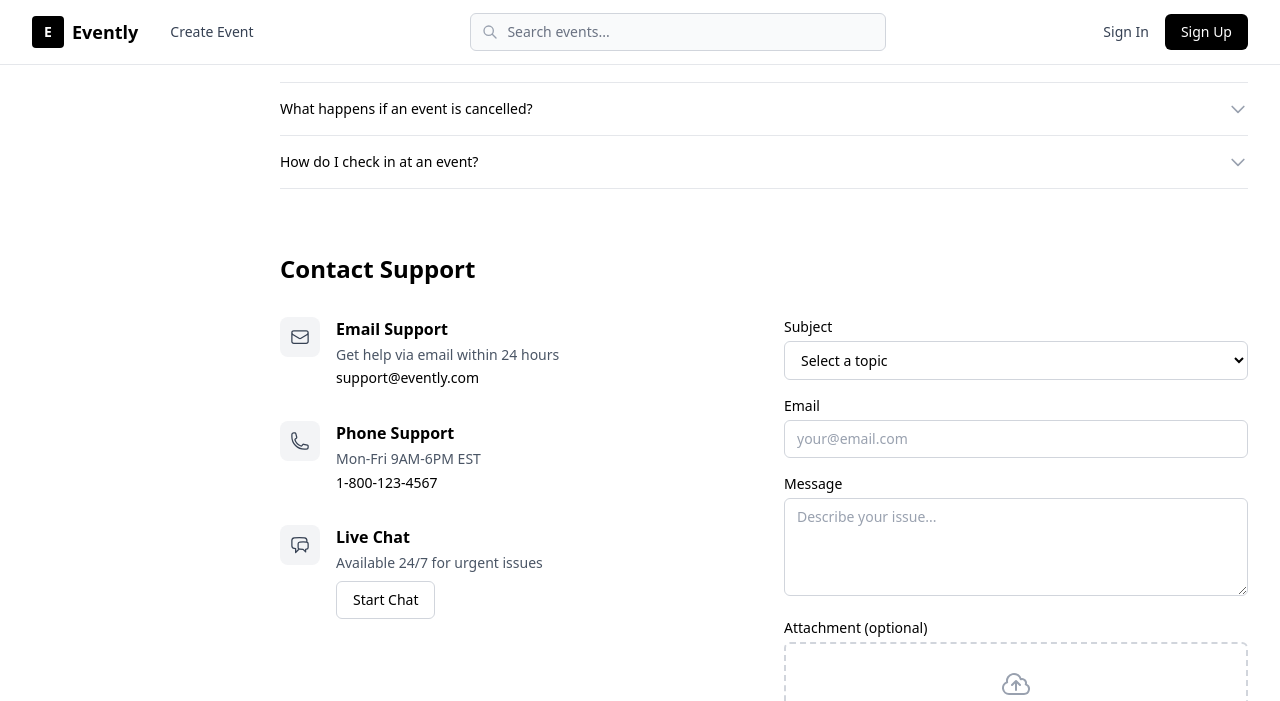
Test: HelpPage › shows error when submitting without message
(page scrolled)
Select "Bug Report" in the dropdown labelled "Subject". click: (1016, 360)
box: [784,341,1248,380]
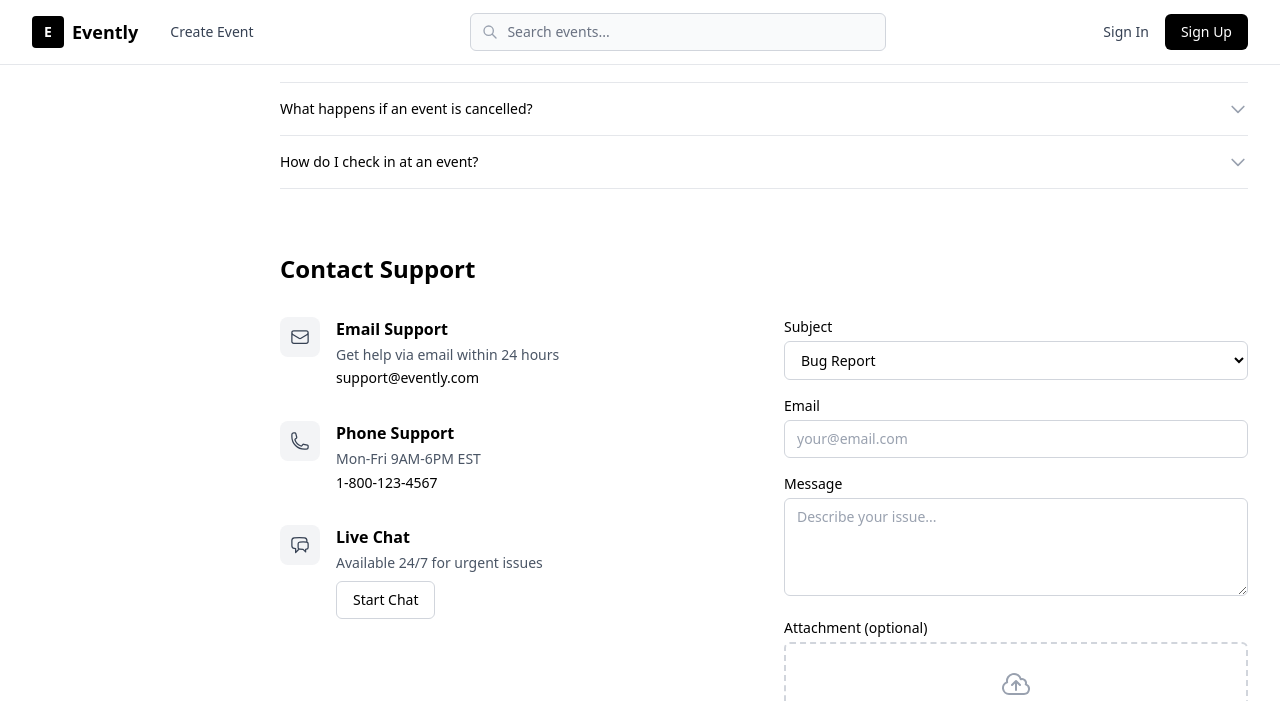
Type "test@example.com" into the field labelled "Email". click: (1016, 439)
box: [784,420,1248,458]
(page scrolled)
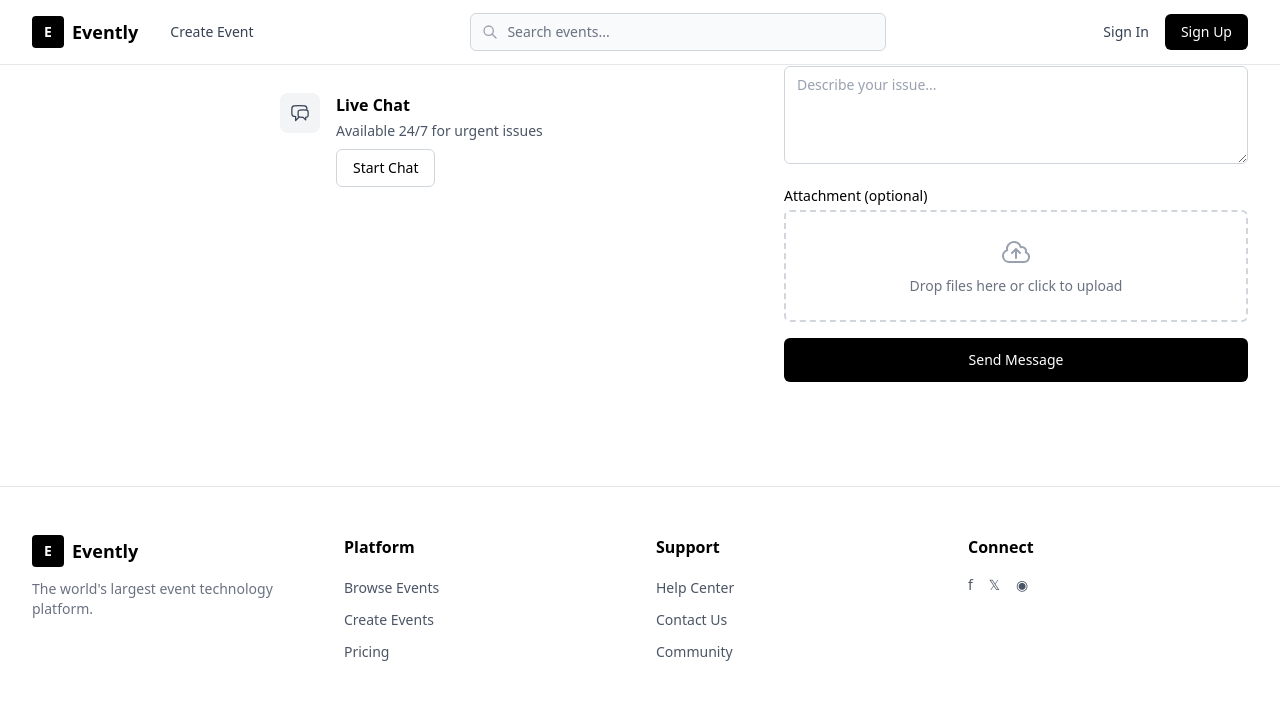
Click the button "Send Message". click: click(1016, 360)
box: [784,338,1248,382]
(page scrolled)
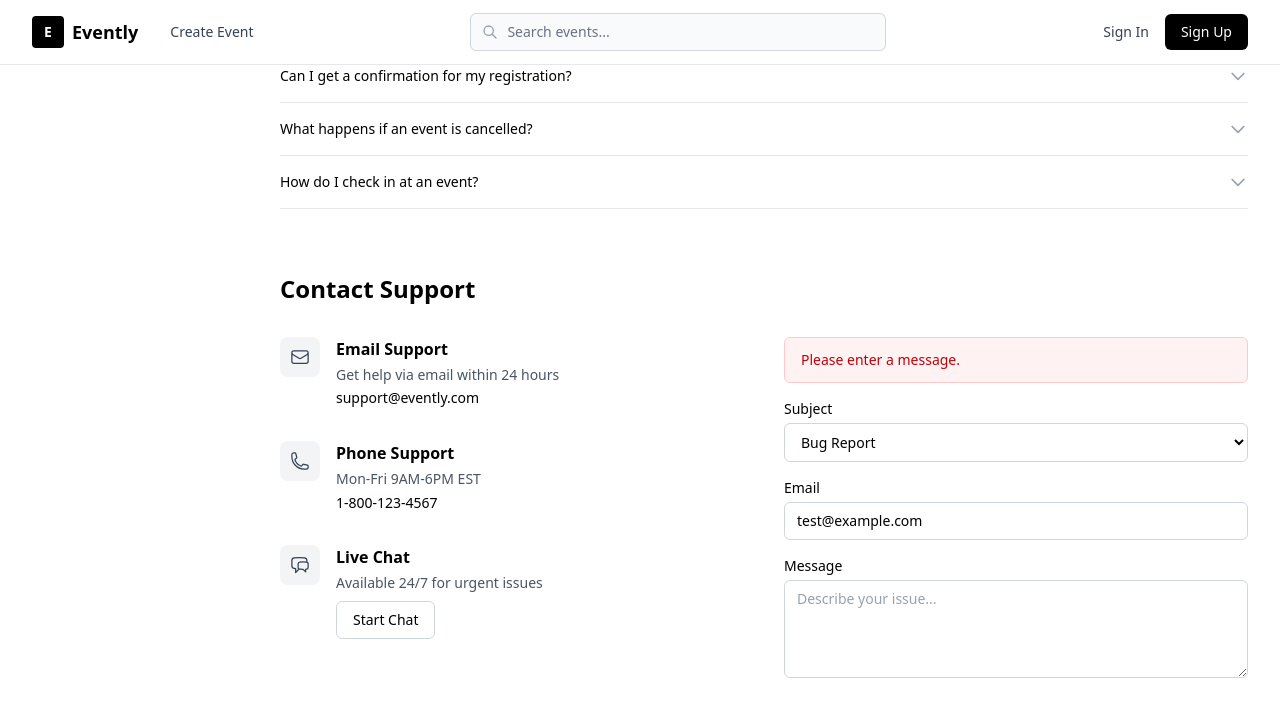
Check: the text "Please enter a message." is shown, box [784,337,1248,383]
